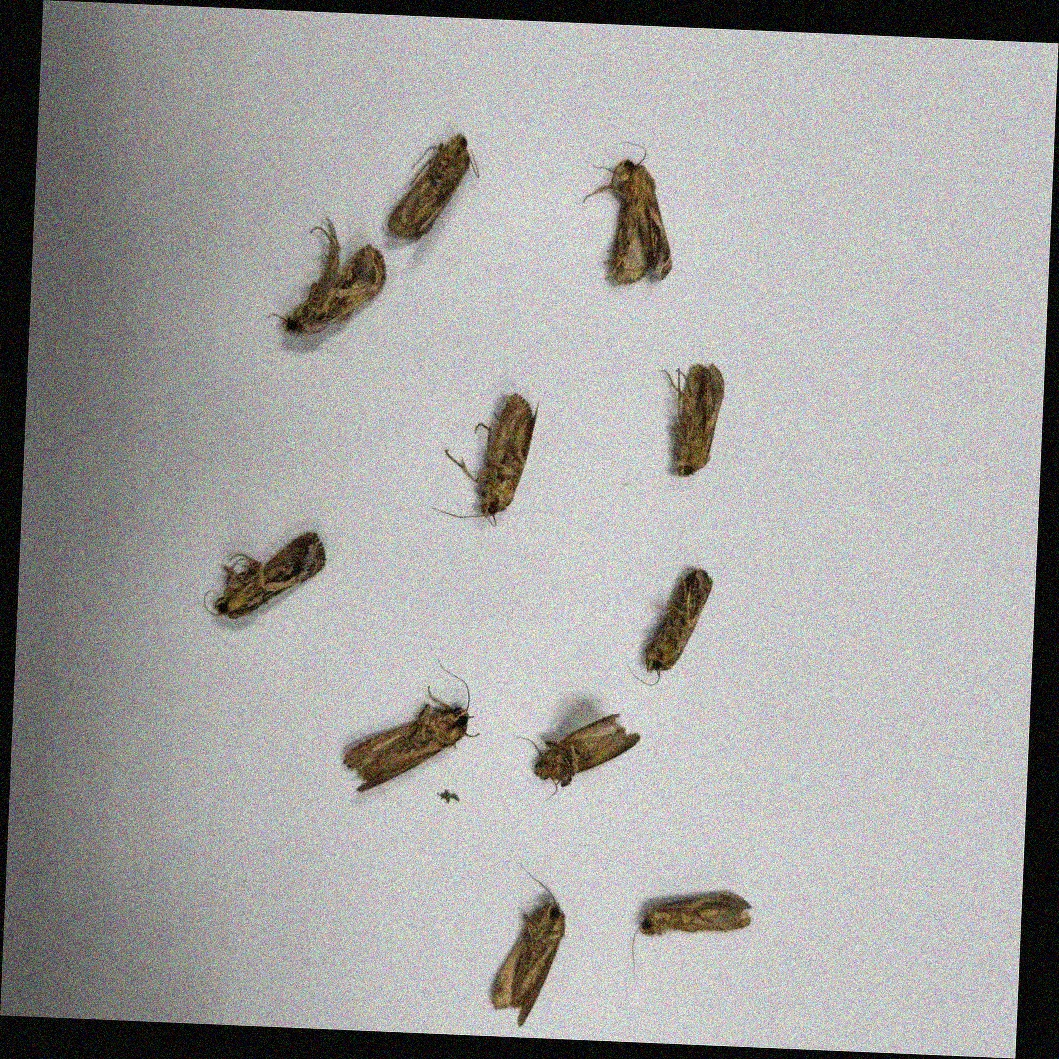Spodoptera litura: (345, 659, 482, 795), (267, 216, 386, 337), (433, 390, 537, 527), (580, 141, 675, 287), (493, 859, 566, 1028), (512, 711, 640, 805), (632, 889, 752, 984), (204, 529, 327, 621), (388, 131, 480, 242), (627, 566, 711, 687), (658, 360, 724, 479)
